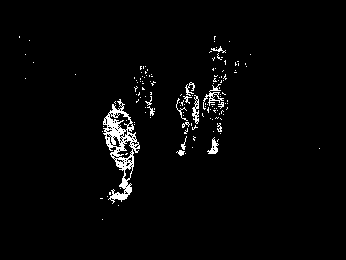person: (100, 98, 140, 202), (199, 77, 229, 158), (174, 81, 201, 156), (133, 64, 157, 117)
